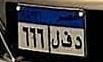6: (37, 28, 44, 48), (30, 26, 36, 48), (22, 27, 28, 47)
daal: (73, 35, 82, 49)
faa: (62, 30, 73, 47)
laam: (50, 30, 61, 50)
